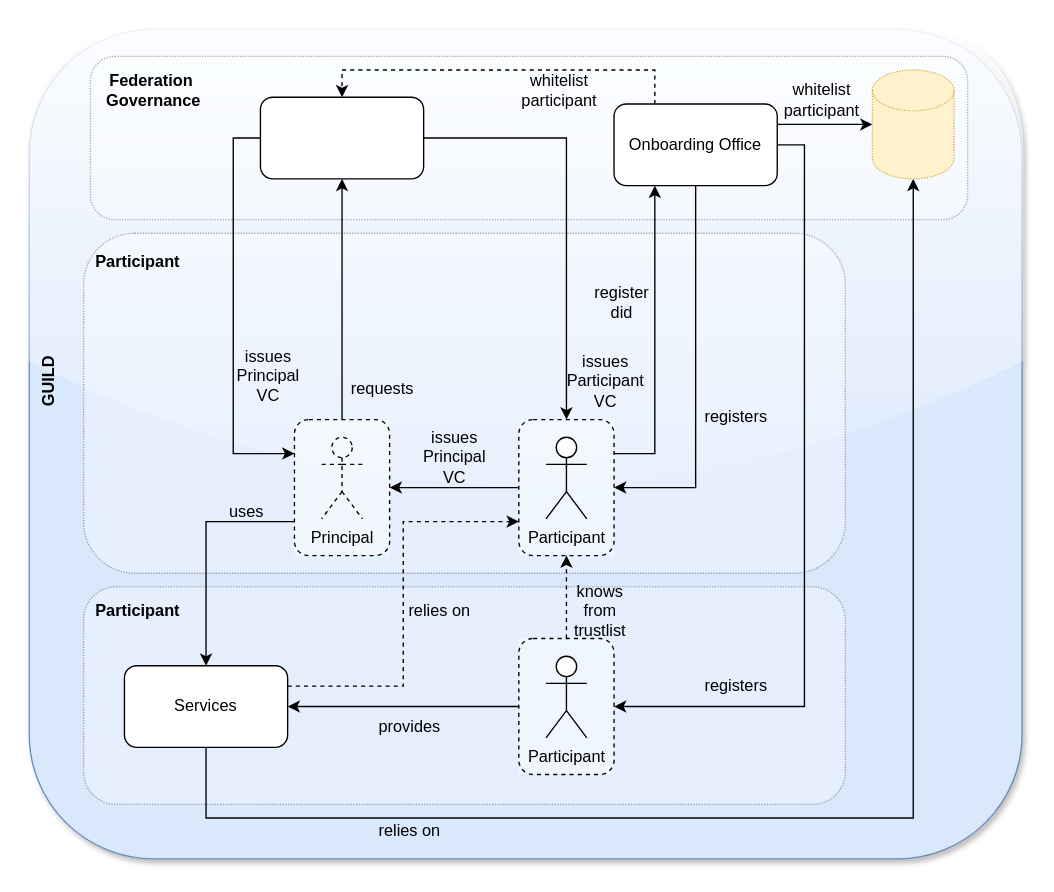
This 1054x892 diagram has some shape labels left out. Each missing label, with the centre of its shape:
"Issuance Service" goes at point (341, 137).
"Trust List" goes at point (912, 124).
